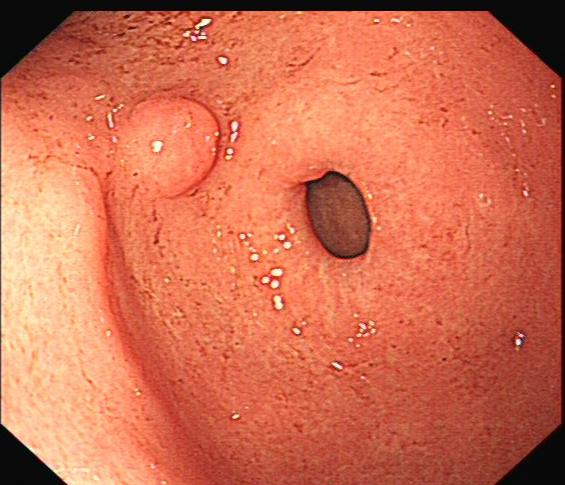Polyp: (124, 96, 228, 202)
